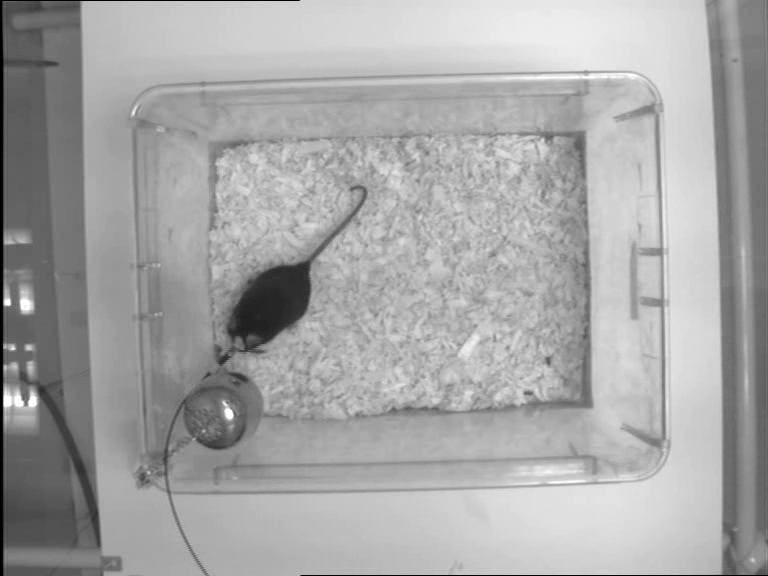mice: (227, 183, 372, 352)
